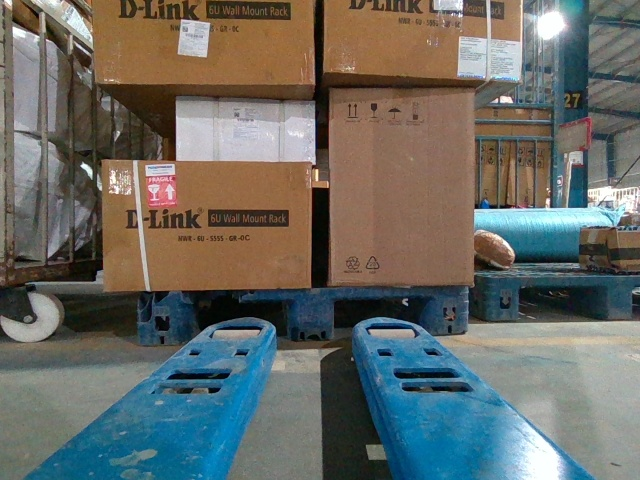block: (137, 290, 188, 349), (289, 285, 335, 343), (431, 286, 468, 337), (484, 273, 518, 323), (601, 276, 635, 319)
front: (139, 284, 470, 344)
hole pallet: (180, 298, 289, 345), (331, 292, 433, 340), (519, 287, 606, 322)
